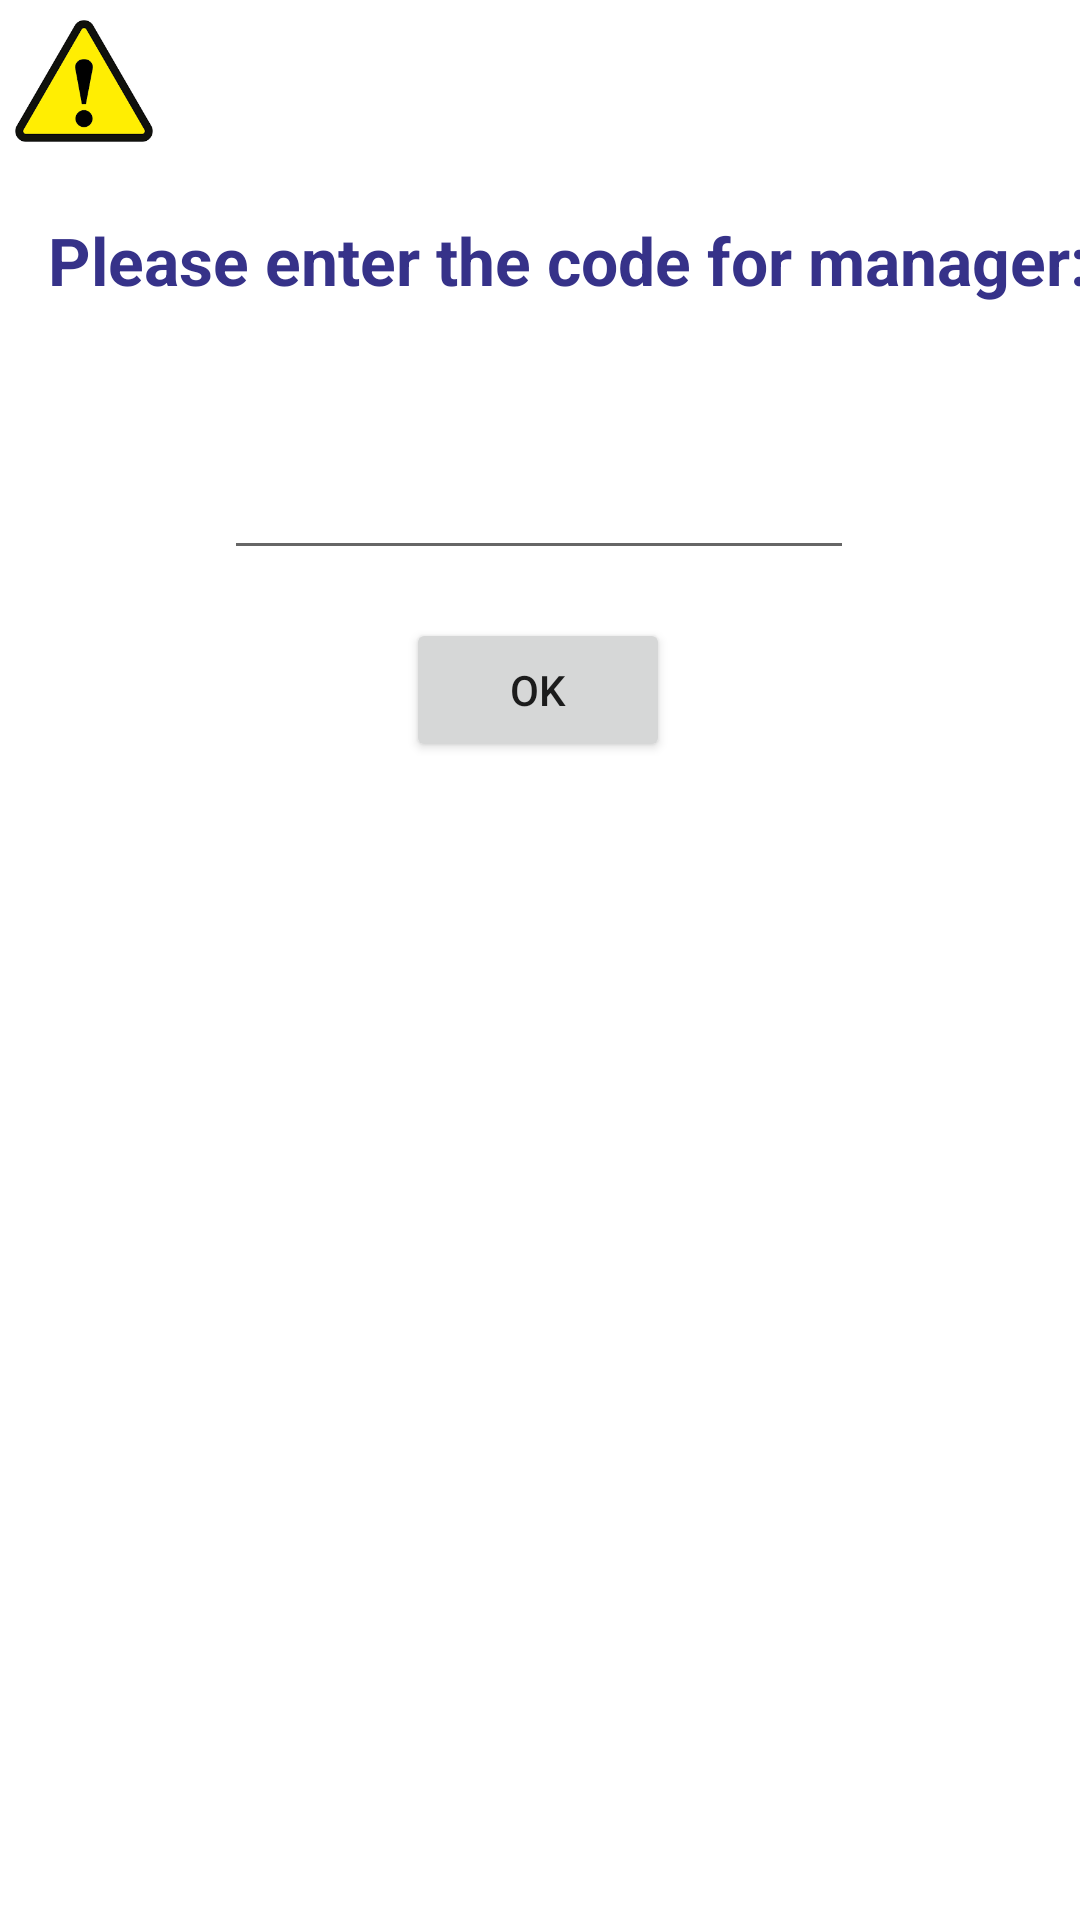

Where icons sit on this 1080 x 1920 app screen, as bbox=[x1, y1, x2, y2]:
warning: bbox=[15, 20, 153, 142]
